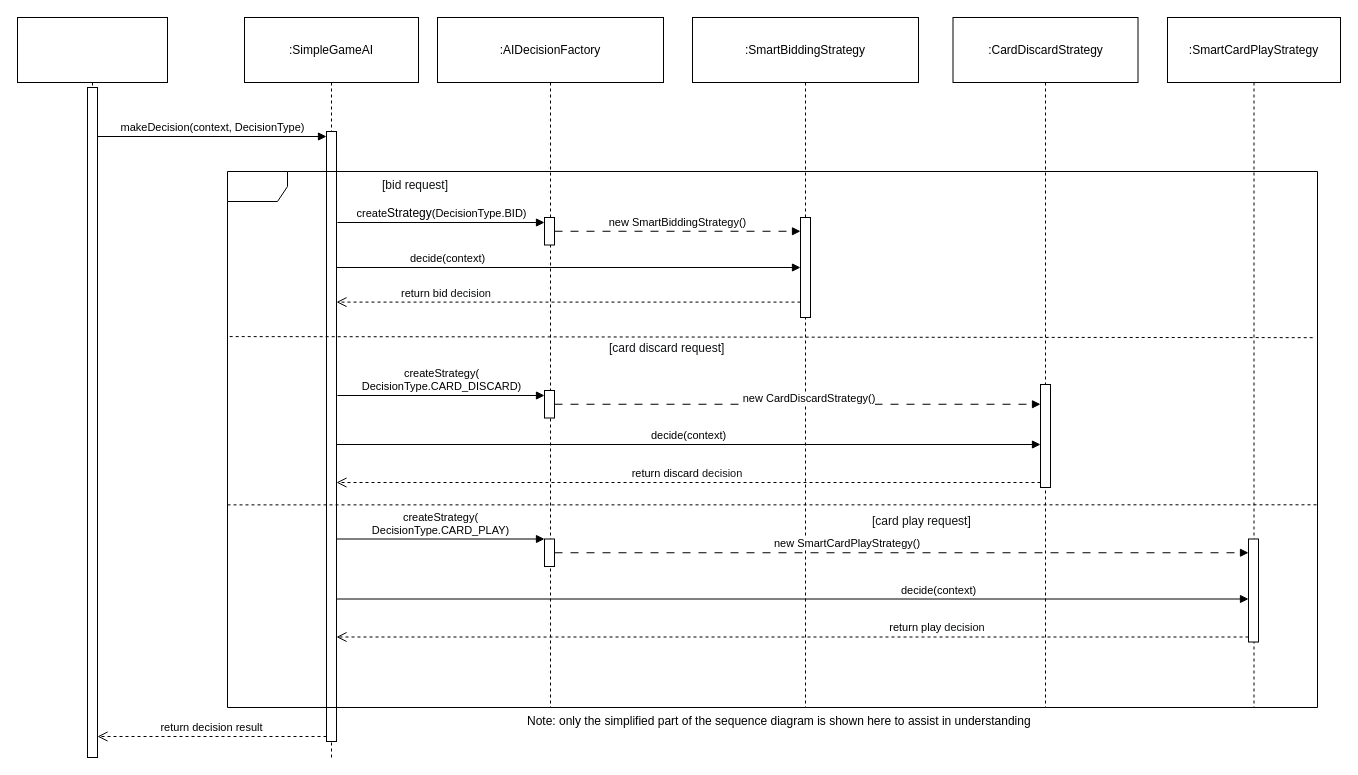
Image size: 1358x775. Some labels were removed from this diagram. Here are the shapes that lost their labels. From the top down, the box of each, then its label:
(16, 16, 168, 758): :Pinochle
(226, 170, 1318, 708): alt
